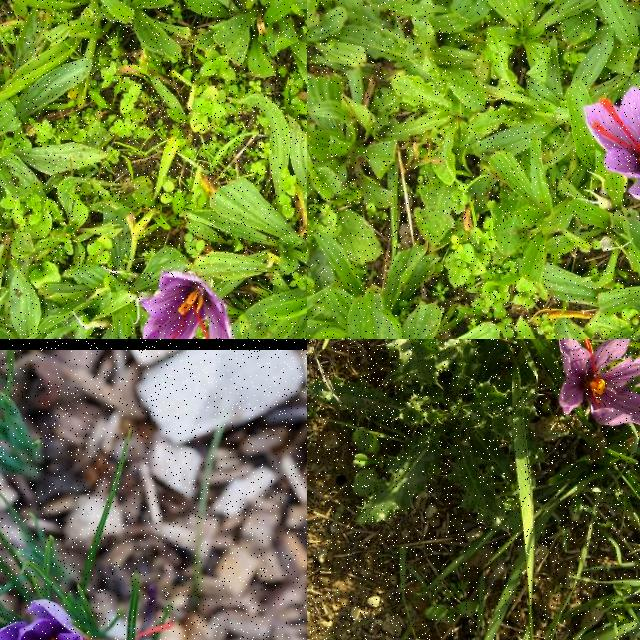flower: (558, 339, 640, 429), (0, 598, 172, 640), (139, 269, 237, 339), (582, 86, 640, 203)
